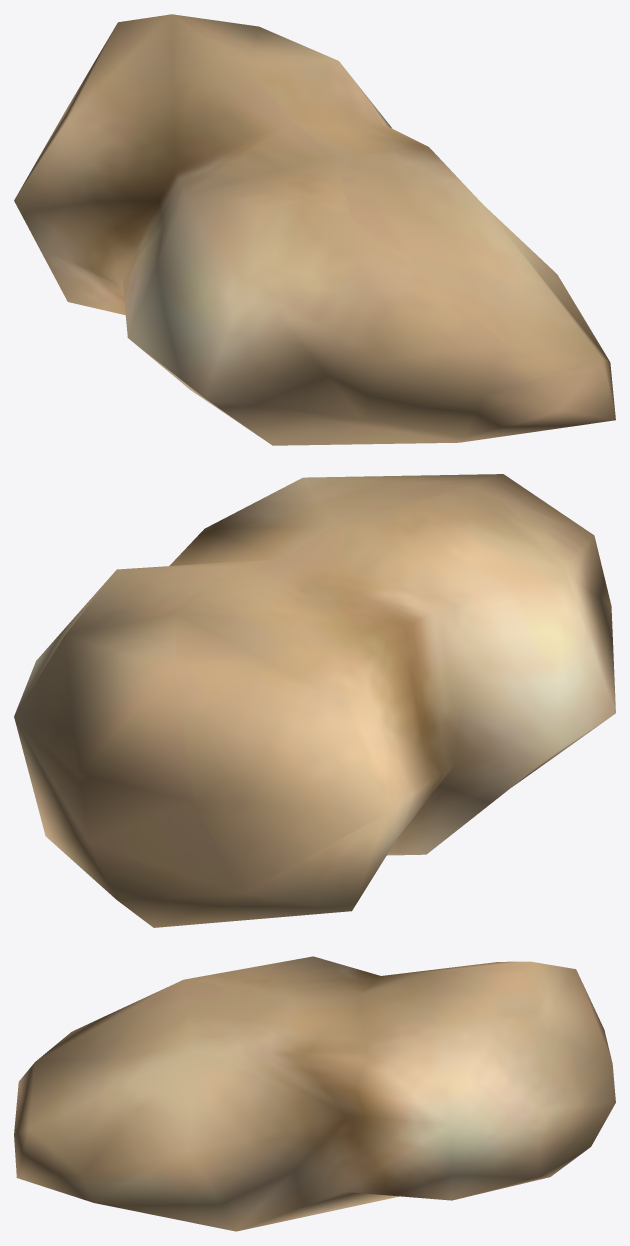
Rendered from Robot01.RightShoulder1.fbx.
3 renders of one model, top to bottom at view 1: azimuth 30°, elevation 25°; view 2: azimuth 150°, elevation 25°; view 3: azimuth 270°, elevation 25°, orthographic. The views are drawn at different scales.
Visible parts, largest first — view 1: mesh_1115.001; view 2: mesh_1115.001; view 3: mesh_1115.001.
Part boxes in pixels (box(x1,y1,x2,y2)): mesh_1115.001: box(14, 14, 615, 445); mesh_1115.001: box(14, 474, 615, 927); mesh_1115.001: box(14, 956, 615, 1231).
Size of the model in its own units: 30.86 by 24.25 by 55.41.
